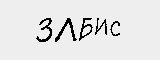Б: (79, 15, 93, 38)
З: (37, 17, 53, 43)
И: (93, 18, 108, 37)
Л: (57, 18, 77, 41)
С: (110, 19, 122, 39)
